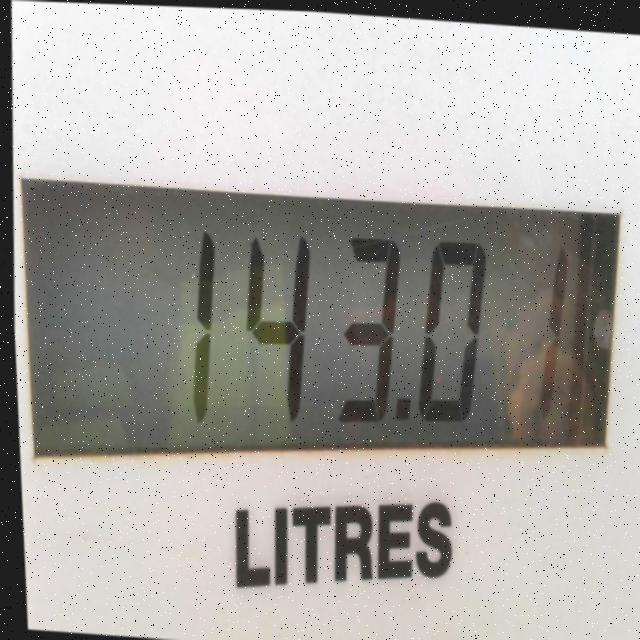.: (389, 385, 427, 436)
0: (411, 231, 489, 432)
1: (518, 234, 581, 431), (180, 227, 228, 427)
3: (331, 229, 403, 417)
4: (233, 229, 317, 421)
